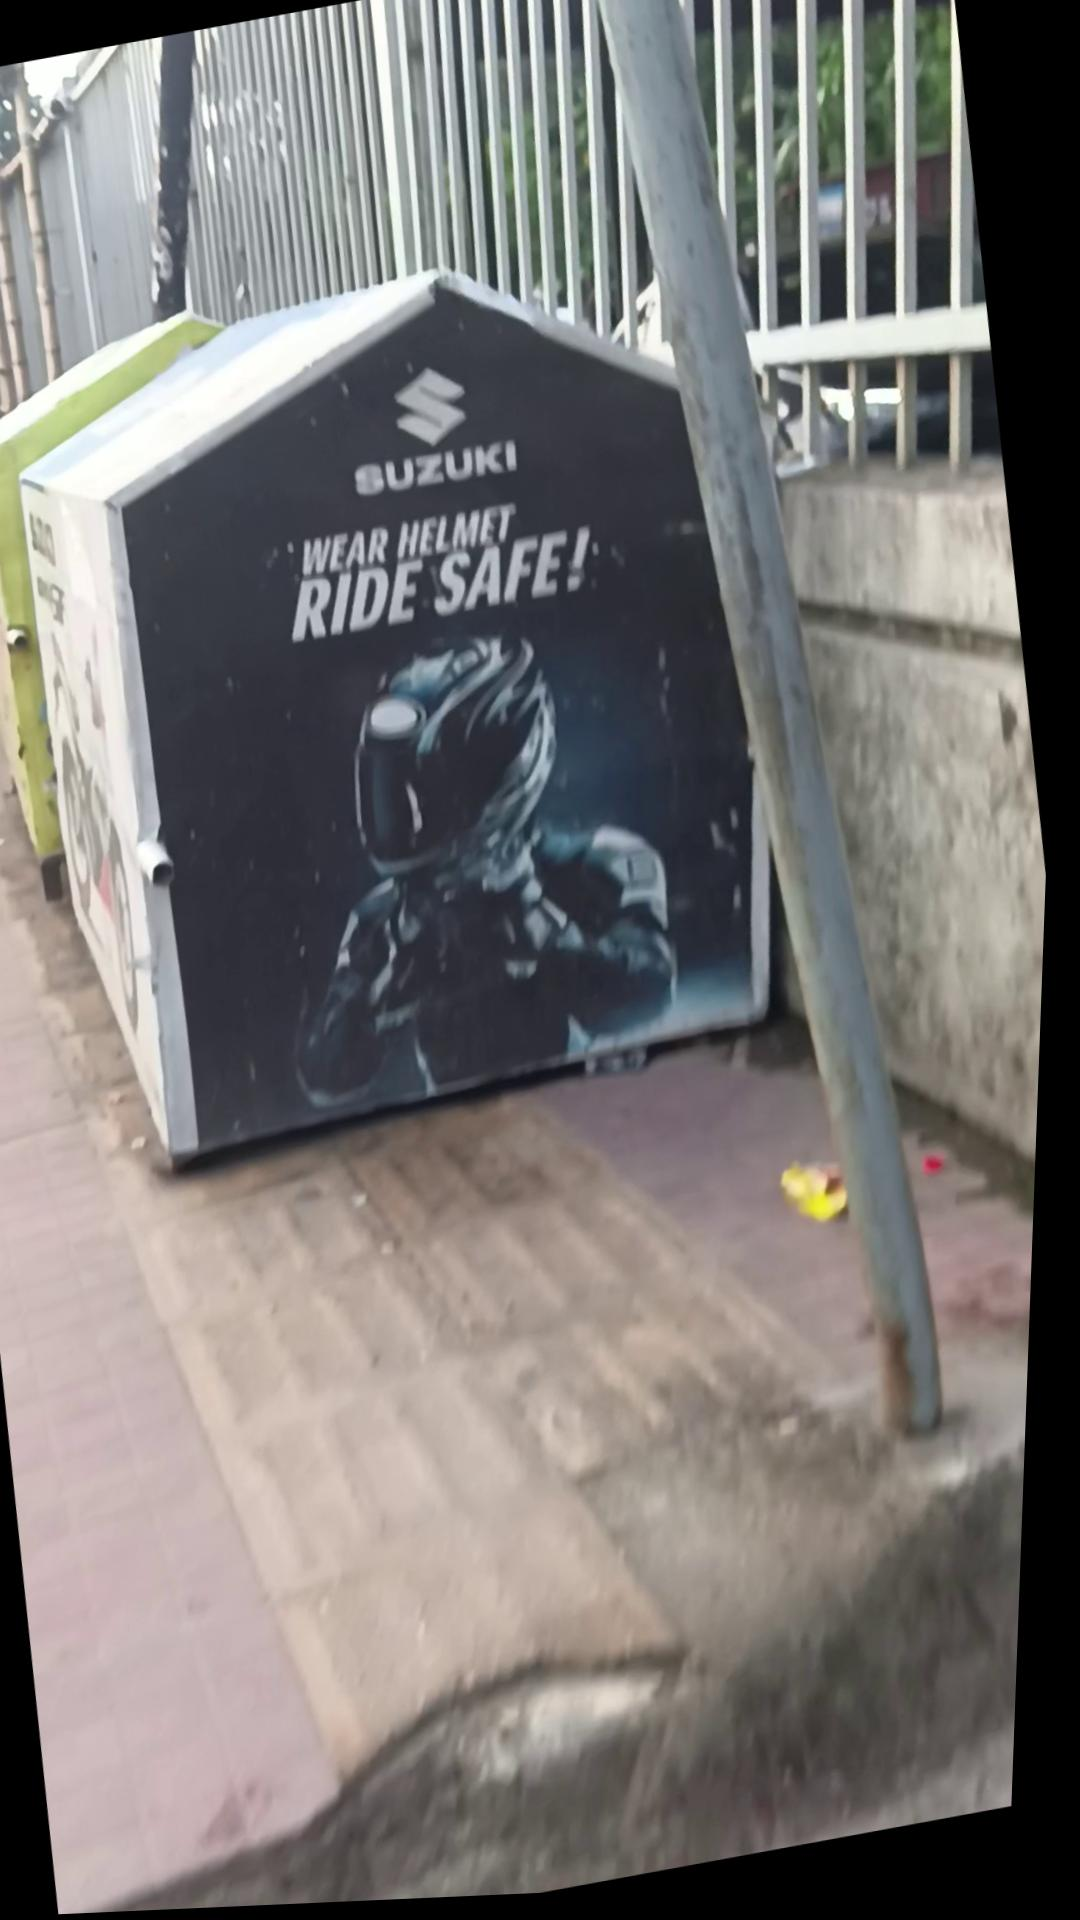Cat: (0, 202, 849, 1191)
Obstacle: (539, 0, 1004, 1482)
Potted-plant: (0, 284, 1071, 1920)
